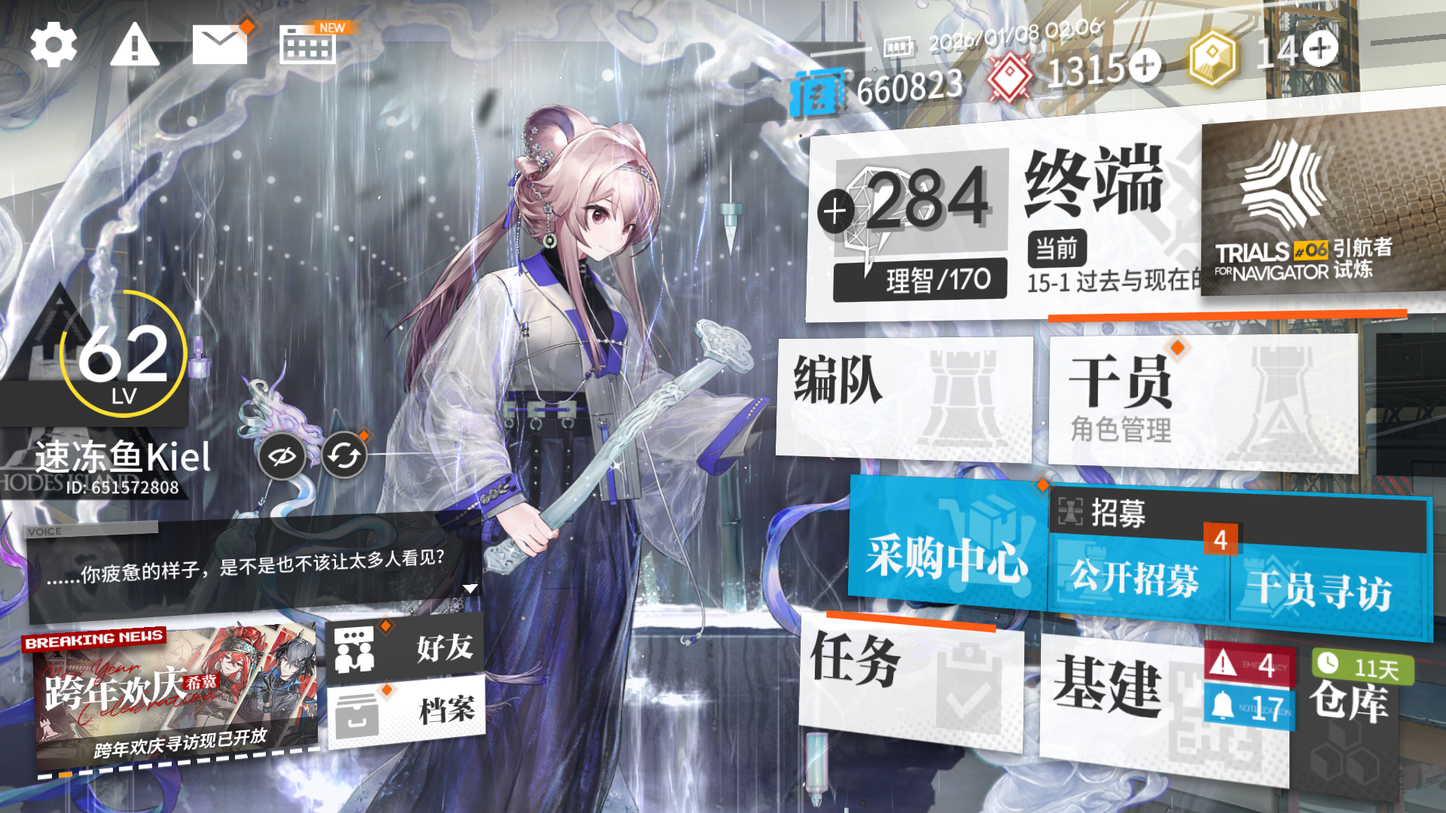home_button: (1003, 129, 1180, 243)
infrastructure_button: (1045, 635, 1286, 765)
